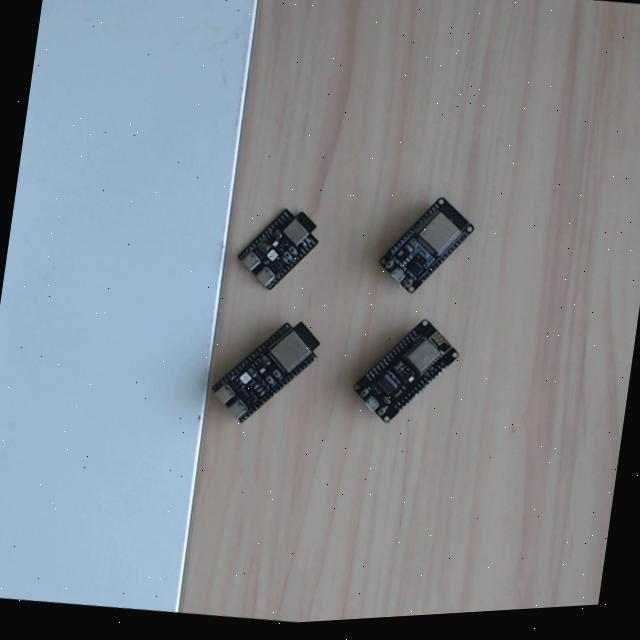ESP32-DevKit: (376, 193, 479, 296)
ESP32C3-DevKit: (233, 198, 329, 295)
ESP32S3-Devkit: (209, 313, 329, 427)
ESP8266-NodeMCU: (349, 315, 463, 427)
